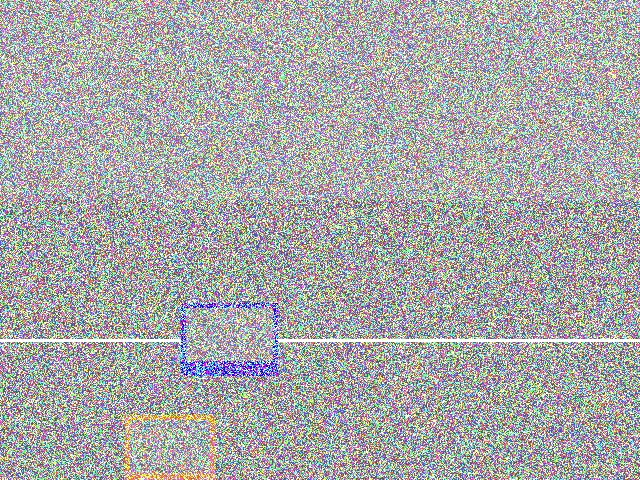bus: (250, 312, 352, 408)
